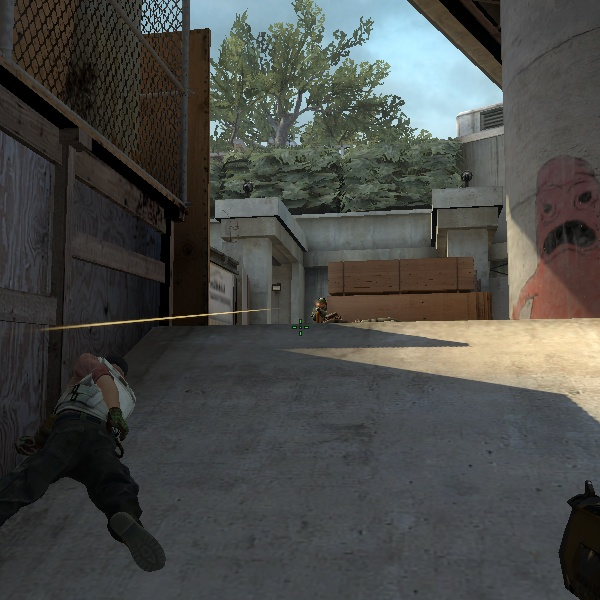ct_body: (307, 297, 335, 325)
ct_head: (313, 296, 330, 312)
